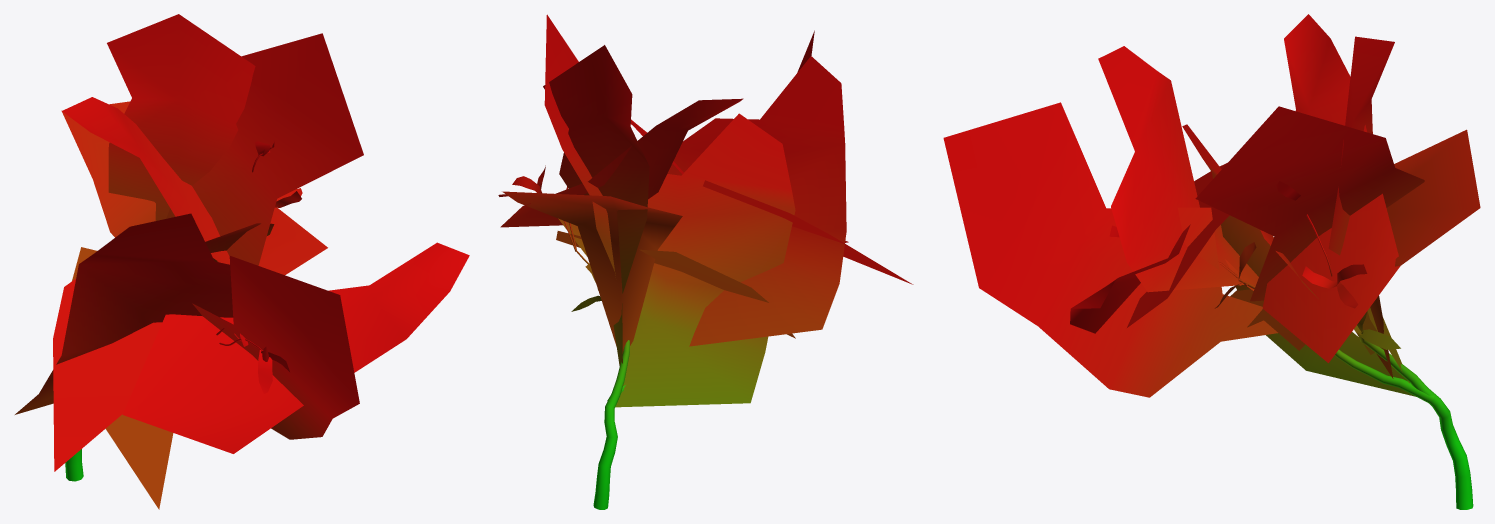
The model's file is Downy Willow_LOD3_Var10_wknlfiuqx.fbx.
3 renders of one model, left to right at view 1: azimuth 30°, elevation 25°; view 2: azimuth 150°, elevation 25°; view 3: azimuth 270°, elevation 25°, orthographic. The views are drawn at different scales.
Visible parts, largest first — view 1: _9wt6_Var10_LOD3; view 2: _9wt6_Var10_LOD3; view 3: _9wt6_Var10_LOD3.
Part boxes in pixels (x1=…): _9wt6_Var10_LOD3: x1=15, y1=14, x2=469, y2=509; _9wt6_Var10_LOD3: x1=498, y1=14, x2=913, y2=509; _9wt6_Var10_LOD3: x1=943, y1=14, x2=1480, y2=509.
Bounding box in the file's own units: 53.48 × 61.44 × 60.29.
